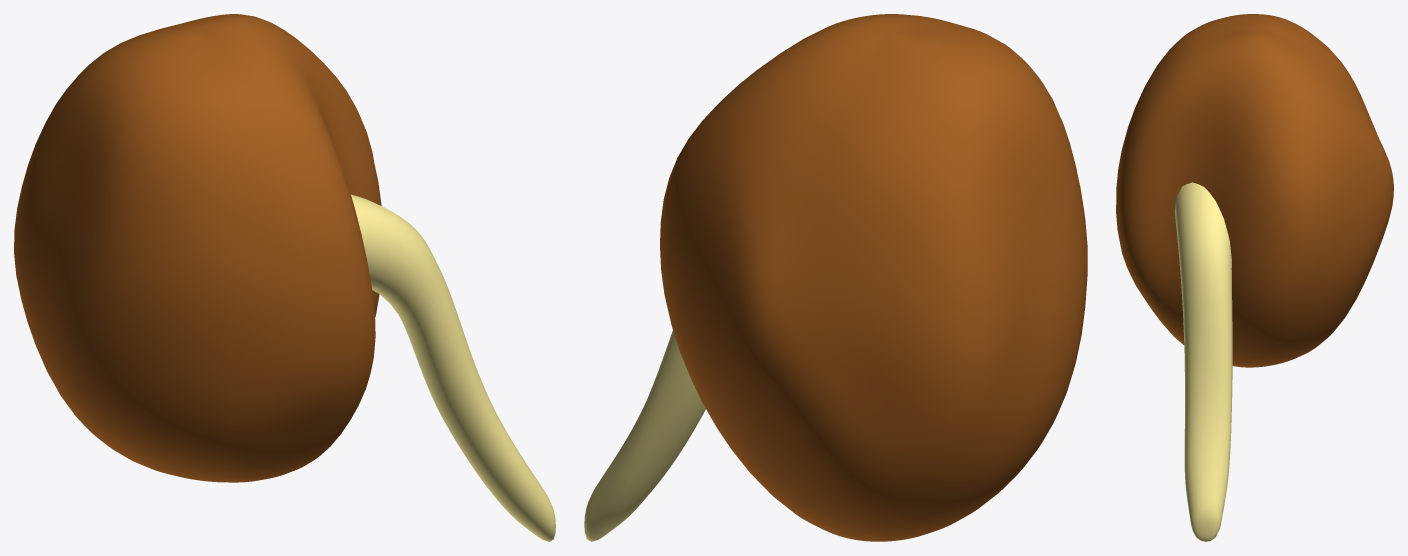
Rendered from Seedling_V1.glb.
3 views of the same model, side by side, from view 1: azimuth 30°, elevation 25°; view 2: azimuth 150°, elevation 25°; view 3: azimuth 270°, elevation 25° (orthographic). The views are drawn at different scales.
Parts seen in each view (by area): view 1: Sphere.002, Cube; view 2: Sphere.002, Cube; view 3: Sphere.002, Cube.
Boxes of the visible parts, x1,y1,x2,y2 form: Sphere.002: (14, 14, 381, 482); Cube: (351, 194, 555, 541); Sphere.002: (660, 14, 1087, 541); Cube: (584, 330, 705, 541); Sphere.002: (1116, 14, 1393, 367); Cube: (1174, 182, 1232, 541).
Size of the model in its own units: 2.08 by 2.44 by 1.51.
